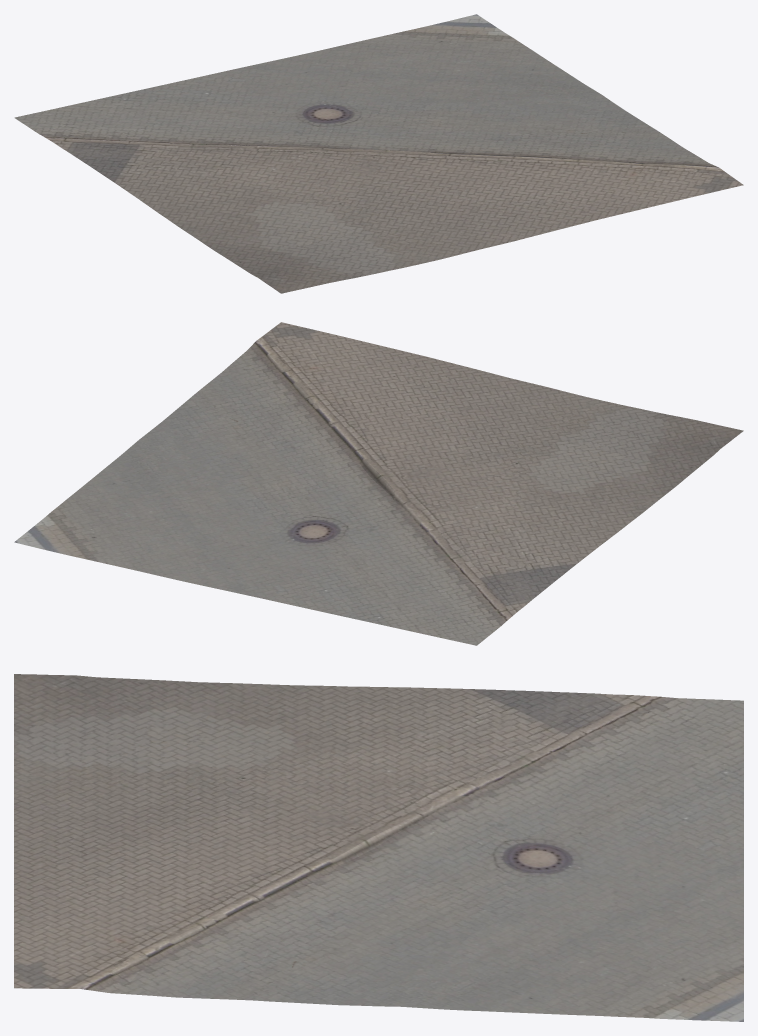
3 views of the same model, one above another, from view 1: azimuth 30°, elevation 25°; view 2: azimuth 150°, elevation 25°; view 3: azimuth 270°, elevation 25° (orthographic). The views are drawn at different scales.
Size of the model in its own units: 8.36 by 0.4995 by 8.36.
Materials: 2 (2 with a texture image).
